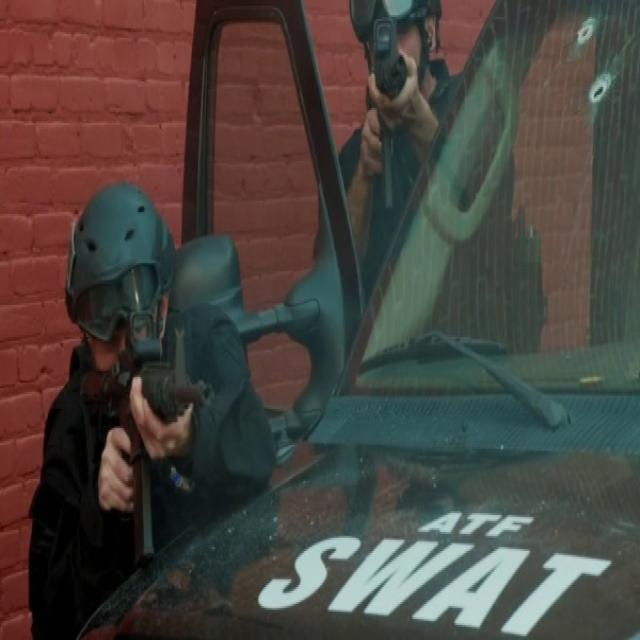rifle: (73, 305, 224, 566)
